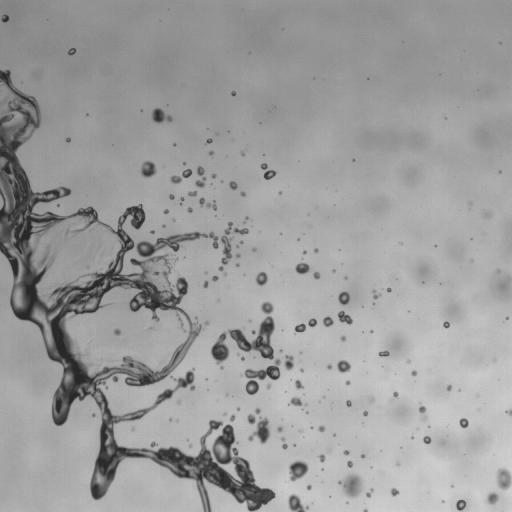droplet: (247, 407, 270, 444), (337, 471, 365, 499), (288, 460, 310, 481), (495, 467, 511, 490), (288, 494, 309, 511), (139, 160, 157, 178), (151, 108, 172, 123), (260, 163, 277, 180), (337, 310, 353, 325), (294, 262, 312, 274), (336, 359, 351, 373), (255, 271, 268, 286), (282, 354, 294, 370), (484, 491, 498, 504), (338, 291, 350, 305), (294, 323, 306, 335), (322, 316, 334, 327), (14, 147, 25, 158), (132, 160, 143, 171), (29, 181, 40, 192), (172, 183, 183, 194), (45, 200, 56, 211), (33, 202, 44, 213), (122, 222, 133, 233), (229, 232, 240, 243), (268, 334, 279, 345), (224, 337, 235, 348), (185, 347, 196, 358), (259, 357, 270, 368), (52, 361, 63, 372), (174, 366, 185, 377), (288, 367, 299, 378), (153, 381, 164, 392), (175, 386, 186, 397), (342, 387, 353, 398), (43, 396, 54, 407), (351, 402, 362, 413), (111, 422, 122, 433), (267, 429, 278, 440), (188, 446, 199, 457), (88, 447, 99, 458), (85, 456, 96, 467), (119, 456, 130, 467), (142, 457, 153, 468), (305, 457, 316, 468), (160, 466, 171, 477), (339, 466, 350, 477), (299, 473, 310, 484), (185, 477, 196, 488), (254, 477, 265, 488), (108, 479, 119, 490), (360, 479, 371, 490), (204, 481, 215, 492), (221, 490, 232, 501), (277, 494, 288, 505), (456, 499, 466, 511), (388, 390, 398, 401), (294, 379, 304, 389), (237, 502, 248, 511), (372, 289, 381, 299), (459, 418, 468, 428), (422, 435, 431, 445), (486, 503, 497, 511), (308, 318, 317, 327), (22, 87, 31, 96), (35, 96, 44, 105), (161, 106, 170, 115), (144, 109, 153, 118), (189, 172, 198, 181), (196, 187, 205, 196), (164, 199, 173, 208), (54, 207, 63, 216), (176, 226, 185, 235), (214, 228, 223, 237), (160, 229, 169, 238), (162, 245, 171, 254), (214, 248, 223, 257), (302, 255, 311, 264), (336, 267, 345, 276), (248, 270, 257, 279), (168, 273, 177, 282), (342, 304, 351, 313), (257, 311, 266, 320), (246, 333, 255, 342), (208, 335, 217, 344), (250, 348, 259, 357), (341, 370, 350, 379), (292, 388, 301, 397), (93, 406, 102, 415), (249, 422, 258, 431), (266, 422, 275, 431), (296, 453, 305, 462), (348, 466, 357, 475), (282, 468, 291, 477), (492, 485, 501, 494), (192, 495, 201, 504), (482, 211, 492, 219), (378, 350, 389, 357), (229, 181, 237, 190), (312, 271, 321, 279), (365, 488, 373, 497), (390, 488, 399, 496), (177, 196, 184, 206), (187, 190, 198, 196), (193, 505, 204, 511), (257, 505, 268, 511), (1, 14, 9, 22), (367, 394, 375, 402), (317, 454, 325, 462), (67, 48, 76, 55), (204, 138, 212, 145), (113, 328, 121, 335), (317, 425, 325, 432), (505, 408, 511, 417), (443, 321, 450, 328), (8, 73, 15, 80), (160, 119, 167, 126), (151, 120, 158, 127), (34, 127, 41, 134), (205, 143, 212, 150), (153, 163, 160, 170), (203, 170, 210, 177), (145, 175, 152, 182), (189, 183, 196, 190), (204, 195, 211, 202), (80, 202, 87, 209), (51, 207, 58, 214), (126, 213, 133, 220), (187, 226, 194, 233), (149, 237, 156, 244), (191, 238, 198, 245), (229, 239, 236, 246), (217, 242, 224, 249), (306, 246, 313, 253), (229, 247, 236, 254), (153, 249, 160, 256), (227, 257, 234, 264), (294, 257, 301, 264), (4, 262, 11, 269), (215, 270, 222, 277), (305, 270, 312, 277), (299, 272, 306, 279), (205, 274, 212, 281), (337, 303, 344, 310), (269, 311, 276, 318), (331, 314, 338, 321), (12, 316, 19, 323), (197, 316, 204, 323), (23, 319, 30, 326), (272, 319, 279, 326), (316, 319, 323, 326), (253, 324, 260, 331), (193, 336, 200, 343), (188, 344, 195, 351), (272, 350, 279, 357), (208, 356, 215, 363), (221, 358, 228, 365), (292, 362, 299, 369), (278, 363, 285, 370), (331, 364, 338, 371), (179, 371, 186, 378), (118, 372, 125, 379), (105, 377, 112, 384), (53, 380, 60, 387), (97, 383, 104, 390), (143, 383, 150, 390), (170, 392, 177, 399), (84, 394, 91, 401), (150, 394, 157, 401), (72, 397, 79, 404), (162, 398, 169, 405), (129, 405, 136, 412), (110, 408, 117, 415), (66, 412, 73, 419), (142, 413, 149, 420), (222, 418, 229, 425), (95, 419, 102, 426), (232, 430, 239, 437), (253, 435, 260, 442), (265, 436, 272, 443), (115, 439, 122, 446), (171, 441, 178, 448), (162, 442, 169, 449), (343, 454, 350, 461), (289, 456, 296, 463), (346, 467, 353, 474), (171, 474, 178, 481), (335, 484, 342, 491), (84, 488, 91, 495), (358, 490, 365, 497), (481, 491, 488, 498), (99, 495, 106, 502), (299, 498, 306, 505), (495, 498, 502, 505), (267, 499, 274, 506), (208, 150, 214, 158), (282, 506, 291, 511), (211, 275, 218, 281), (446, 384, 452, 391), (345, 400, 351, 407), (277, 426, 283, 433), (347, 460, 353, 467), (0, 64, 6, 71), (203, 280, 208, 288), (187, 207, 193, 213), (84, 263, 90, 269), (340, 335, 346, 341), (326, 363, 332, 369), (411, 370, 417, 376), (343, 450, 349, 456), (0, 79, 4, 88), (0, 251, 4, 260), (266, 382, 271, 389), (240, 150, 245, 156), (211, 173, 217, 178), (240, 191, 246, 196), (169, 193, 174, 199), (163, 209, 169, 214), (386, 287, 391, 293), (176, 398, 181, 404), (326, 447, 331, 453), (360, 453, 366, 458), (306, 484, 311, 490), (507, 467, 511, 474), (507, 484, 511, 491), (231, 91, 236, 96), (65, 137, 70, 142), (251, 247, 256, 252), (313, 248, 318, 253), (302, 250, 307, 255), (278, 348, 283, 353), (345, 380, 350, 385), (6, 19, 11, 24), (171, 114, 176, 119), (39, 116, 44, 121), (38, 122, 43, 127), (149, 157, 154, 162), (260, 158, 265, 163), (201, 163, 206, 168), (183, 164, 188, 169), (260, 168, 265, 173), (191, 169, 196, 174), (177, 172, 182, 177), (197, 175, 202, 180), (165, 176, 170, 181), (180, 176, 185, 181), (214, 176, 219, 181), (230, 176, 235, 181), (270, 176, 275, 181), (234, 178, 239, 183), (203, 179, 208, 184), (174, 182, 179, 187), (224, 182, 229, 187), (64, 183, 69, 188), (47, 185, 52, 190), (42, 186, 47, 191), (195, 186, 200, 191), (226, 186, 231, 191), (235, 187, 240, 192), (65, 194, 70, 199), (174, 194, 179, 199), (183, 194, 188, 199), (195, 194, 200, 199), (238, 195, 243, 200), (54, 198, 59, 203), (167, 198, 172, 203), (133, 201, 138, 206), (127, 202, 132, 207), (92, 204, 97, 209), (141, 205, 146, 210), (159, 206, 164, 211), (208, 206, 213, 211), (72, 207, 77, 212), (120, 207, 125, 212), (144, 214, 149, 219), (97, 215, 102, 220), (141, 221, 146, 226), (223, 223, 228, 228), (230, 224, 235, 229), (237, 224, 242, 229), (198, 228, 203, 233), (204, 229, 209, 234), (296, 232, 301, 237), (198, 235, 203, 240), (208, 237, 213, 242), (216, 238, 221, 243), (178, 240, 183, 245), (208, 244, 213, 249), (177, 247, 182, 252), (220, 252, 225, 257), (177, 257, 182, 262), (235, 257, 240, 262), (217, 261, 222, 266), (222, 264, 227, 269), (258, 267, 263, 272), (263, 268, 268, 273), (318, 270, 323, 275), (266, 273, 271, 278), (184, 276, 189, 281), (313, 278, 318, 283), (207, 279, 212, 284), (214, 279, 219, 284), (199, 280, 204, 285), (262, 282, 267, 287), (255, 283, 260, 288), (186, 286, 191, 291), (338, 287, 343, 292), (344, 287, 349, 292), (347, 290, 352, 295), (334, 291, 339, 296), (368, 292, 373, 297), (333, 294, 338, 299), (262, 297, 267, 302), (334, 298, 339, 303), (347, 299, 352, 304), (8, 309, 13, 314), (310, 313, 315, 318), (349, 314, 354, 319), (190, 317, 195, 322), (351, 319, 356, 324), (295, 320, 300, 325), (303, 320, 308, 325), (342, 321, 347, 326), (304, 323, 309, 328), (232, 324, 237, 329), (328, 324, 333, 329), (34, 325, 39, 330), (199, 329, 204, 334), (216, 330, 221, 335), (296, 331, 301, 336), (345, 335, 350, 340), (335, 336, 340, 341), (38, 337, 43, 342), (341, 340, 346, 345), (209, 341, 214, 346), (379, 346, 384, 351), (239, 349, 244, 354), (43, 353, 48, 358), (339, 355, 344, 360), (336, 356, 341, 361), (346, 358, 351, 363), (291, 359, 296, 364), (323, 360, 328, 365), (349, 365, 354, 370), (240, 367, 245, 372), (192, 370, 197, 375), (416, 370, 421, 375), (264, 374, 269, 379), (410, 375, 415, 380), (253, 376, 258, 381), (244, 377, 249, 382), (191, 380, 196, 385), (300, 380, 305, 385), (290, 381, 295, 386), (442, 383, 447, 388), (131, 385, 136, 390), (178, 386, 183, 391), (450, 386, 455, 391), (241, 388, 246, 393), (190, 389, 195, 394), (254, 391, 259, 396), (388, 392, 393, 397), (397, 392, 402, 397), (247, 393, 252, 398), (105, 395, 110, 400), (285, 397, 290, 402), (299, 397, 304, 402), (350, 400, 355, 405), (421, 401, 426, 406), (107, 403, 112, 408), (256, 403, 261, 408), (289, 403, 294, 408), (139, 404, 144, 409), (295, 404, 300, 409), (414, 404, 419, 409), (414, 408, 419, 413), (424, 408, 429, 413), (232, 409, 237, 414), (226, 412, 231, 417), (461, 413, 466, 418), (214, 416, 219, 421), (48, 417, 53, 422), (254, 417, 259, 422), (133, 418, 138, 423), (243, 418, 248, 423), (318, 420, 323, 425), (423, 420, 428, 425), (62, 421, 67, 426), (229, 421, 234, 426), (204, 424, 209, 429), (313, 424, 318, 429), (456, 424, 461, 429), (281, 425, 286, 430), (463, 426, 468, 431), (323, 428, 328, 433), (316, 430, 321, 435), (278, 431, 283, 436), (426, 431, 431, 436), (278, 440, 283, 445), (230, 442, 235, 447), (422, 442, 427, 447), (287, 443, 292, 448), (145, 444, 150, 449), (153, 446, 158, 451), (318, 449, 323, 454), (237, 452, 242, 457), (324, 454, 329, 459), (315, 457, 320, 462), (319, 461, 324, 466), (342, 462, 347, 467), (248, 465, 253, 470), (87, 472, 92, 477), (193, 488, 198, 493), (208, 497, 213, 502), (209, 502, 214, 507), (451, 503, 456, 508), (360, 504, 365, 509), (468, 201, 472, 207), (406, 358, 410, 364), (363, 410, 367, 416), (149, 230, 154, 234), (398, 241, 403, 245), (343, 276, 348, 280), (492, 357, 496, 362), (236, 406, 240, 411), (92, 412, 96, 417), (222, 412, 227, 416), (131, 426, 135, 431), (396, 461, 400, 466), (278, 191, 282, 195), (56, 203, 60, 207), (239, 240, 243, 244), (235, 263, 239, 267), (332, 269, 336, 273), (496, 269, 500, 273), (299, 368, 303, 372), (410, 435, 414, 439), (298, 429, 303, 432), (508, 315, 511, 320), (498, 41, 502, 44), (173, 142, 176, 146), (182, 162, 186, 165), (172, 218, 175, 222), (297, 237, 300, 241), (236, 244, 239, 248), (470, 258, 473, 262), (505, 316, 509, 319), (457, 388, 461, 391), (225, 392, 228, 396), (175, 419, 178, 423), (450, 484, 454, 487), (441, 500, 445, 503), (363, 508, 367, 511), (0, 14, 2, 19), (0, 19, 2, 24), (0, 203, 2, 208), (86, 113, 89, 116), (262, 153, 265, 156), (352, 158, 355, 161), (498, 170, 501, 173), (220, 180, 223, 183), (162, 224, 165, 227), (470, 237, 473, 240), (434, 244, 437, 247), (204, 271, 207, 274), (243, 273, 246, 276), (372, 302, 375, 305), (370, 330, 373, 333), (299, 351, 302, 354), (381, 365, 384, 368), (322, 395, 325, 398), (476, 408, 479, 411), (305, 411, 308, 414), (169, 418, 172, 421), (427, 425, 430, 428), (310, 426, 313, 429), (416, 427, 419, 430), (7, 13, 10, 16), (3, 21, 6, 24), (71, 44, 74, 47), (68, 45, 71, 48), (75, 48, 78, 51), (74, 51, 77, 54), (69, 54, 72, 57), (368, 75, 371, 78), (366, 79, 369, 82), (235, 92, 238, 95), (228, 93, 231, 96), (232, 95, 235, 98), (137, 107, 140, 110), (85, 109, 88, 112), (82, 112, 85, 115), (86, 115, 89, 118), (443, 119, 446, 122), (65, 134, 68, 137), (62, 137, 65, 140), (211, 137, 214, 140), (70, 138, 73, 141), (203, 139, 206, 142), (65, 141, 68, 144), (175, 141, 178, 144), (169, 142, 172, 145), (174, 145, 177, 148), (205, 151, 208, 154), (244, 151, 247, 154), (211, 153, 214, 156), (208, 154, 211, 157), (238, 154, 241, 157), (242, 155, 245, 158), (350, 155, 353, 158), (354, 157, 357, 160), (348, 158, 351, 161), (273, 168, 276, 171), (495, 169, 498, 172), (501, 169, 504, 172), (202, 173, 205, 176), (498, 173, 501, 176), (262, 177, 265, 180), (210, 184, 213, 187), (170, 191, 173, 194), (275, 191, 278, 194), (166, 193, 169, 196), (280, 193, 283, 196), (166, 196, 169, 199), (212, 196, 215, 199), (181, 200, 184, 203), (214, 201, 217, 204), (216, 206, 219, 209), (167, 207, 170, 210), (186, 211, 189, 214), (190, 211, 193, 214), (164, 213, 167, 216), (247, 214, 250, 217), (214, 216, 217, 219), (115, 217, 118, 220), (228, 218, 231, 221), (160, 221, 163, 224), (164, 222, 167, 225), (243, 232, 246, 235), (226, 234, 229, 237), (280, 234, 283, 237), (467, 235, 470, 238), (293, 237, 296, 240), (299, 237, 302, 240), (470, 239, 473, 242), (434, 241, 437, 244), (431, 242, 434, 245), (238, 243, 241, 246), (314, 244, 317, 247), (432, 246, 435, 249), (435, 246, 438, 249), (304, 247, 307, 250), (300, 248, 303, 251), (317, 249, 320, 252), (249, 250, 252, 253), (253, 251, 256, 254), (183, 258, 186, 261), (332, 265, 335, 268), (236, 266, 239, 269), (335, 268, 338, 271), (342, 273, 345, 276), (344, 279, 347, 282), (436, 282, 439, 285), (421, 283, 424, 286), (9, 286, 12, 289), (390, 286, 393, 289), (203, 287, 206, 290), (383, 288, 386, 291), (375, 291, 378, 294), (387, 291, 390, 294), (372, 298, 375, 301), (363, 303, 366, 306), (369, 303, 372, 306), (373, 304, 376, 307), (504, 313, 507, 316), (323, 314, 326, 317), (502, 317, 505, 320), (443, 318, 446, 321), (447, 319, 450, 322), (505, 319, 508, 322), (440, 321, 443, 324), (205, 324, 208, 327), (441, 325, 444, 328), (445, 327, 448, 330), (358, 330, 361, 333), (370, 332, 373, 335), (388, 351, 391, 354), (287, 352, 290, 355), (375, 352, 378, 355), (237, 356, 240, 359), (408, 356, 411, 359), (301, 365, 304, 368), (380, 367, 383, 370), (303, 368, 306, 371), (408, 371, 411, 374), (204, 374, 207, 377), (207, 377, 210, 380), (342, 380, 345, 383), (349, 380, 352, 383), (123, 382, 126, 385), (346, 384, 349, 387), (298, 387, 301, 390), (256, 389, 259, 392), (457, 391, 460, 394), (228, 394, 231, 397), (320, 397, 323, 400), (346, 397, 349, 400), (343, 403, 346, 406), (347, 406, 350, 409), (303, 407, 306, 410), (505, 407, 508, 410), (367, 411, 370, 414), (360, 412, 363, 415), (364, 415, 367, 418), (171, 418, 174, 421), (166, 419, 169, 422), (456, 420, 459, 423), (467, 421, 470, 424), (308, 423, 311, 426), (429, 423, 432, 426), (307, 427, 310, 430), (331, 430, 334, 433), (300, 432, 303, 435), (329, 433, 332, 436), (335, 433, 338, 436), (408, 433, 411, 436), (412, 433, 415, 436), (422, 433, 425, 436), (332, 436, 335, 439), (430, 437, 433, 440), (409, 438, 412, 441), (188, 439, 191, 442), (427, 442, 430, 445), (295, 443, 298, 446), (396, 445, 399, 448), (280, 447, 283, 450), (345, 447, 348, 450), (348, 451, 351, 454), (357, 453, 360, 456), (359, 457, 362, 460), (362, 457, 365, 460), (323, 459, 326, 462), (323, 466, 326, 469), (321, 470, 324, 473), (452, 482, 455, 485), (447, 483, 450, 486), (310, 485, 313, 488), (450, 487, 453, 490), (307, 489, 310, 492), (328, 492, 331, 495), (370, 492, 373, 495), (388, 492, 391, 495), (274, 493, 277, 496), (325, 495, 328, 498), (330, 496, 333, 499), (440, 496, 443, 499), (459, 496, 462, 499), (443, 497, 446, 500), (438, 499, 441, 502), (440, 502, 443, 505), (345, 503, 348, 506), (366, 507, 369, 510), (318, 399, 320, 403), (345, 501, 349, 503), (140, 109, 143, 111), (444, 117, 447, 119), (280, 232, 282, 235), (183, 256, 186, 258), (421, 281, 424, 283), (248, 320, 251, 322), (284, 390, 287, 392), (302, 393, 305, 395), (333, 433, 335, 436), (329, 495, 331, 498), (367, 77, 369, 79), (307, 213, 309, 215), (302, 233, 304, 235), (301, 257, 303, 259), (439, 282, 441, 284), (362, 305, 364, 307), (408, 310, 410, 312), (281, 329, 283, 331), (253, 356, 255, 358), (205, 378, 207, 380), (293, 444, 295, 446), (400, 446, 402, 448), (370, 466, 372, 468), (321, 468, 323, 470), (313, 77, 314, 79), (259, 122, 261, 123), (228, 130, 229, 132), (214, 215, 216, 216), (290, 378, 291, 380), (281, 418, 282, 420), (291, 425, 293, 426), (312, 502, 313, 504), (207, 128, 208, 129), (339, 249, 340, 250), (342, 263, 343, 264), (396, 278, 397, 279), (362, 331, 363, 332)
ligament: (218, 221, 249, 276), (170, 168, 192, 184), (287, 396, 308, 410), (194, 166, 206, 188), (198, 197, 217, 210), (418, 402, 427, 421), (280, 436, 287, 449), (236, 352, 244, 361), (186, 438, 192, 448), (242, 216, 249, 224), (209, 182, 212, 185)
